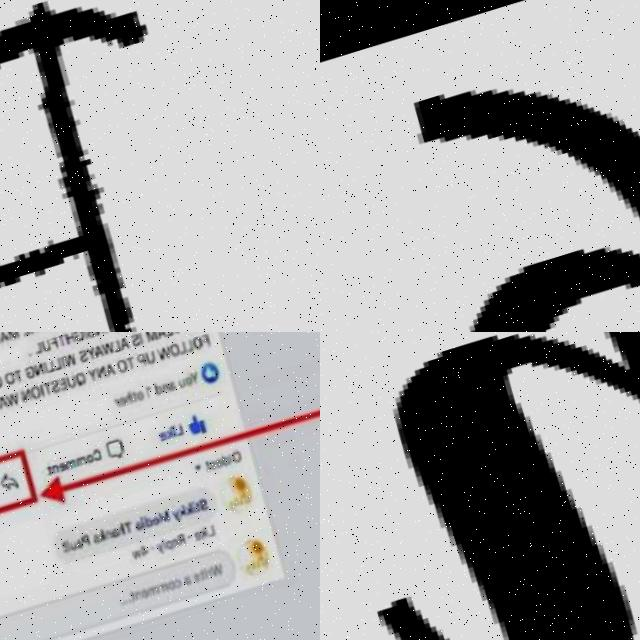1: (149, 384, 158, 396)
4: (145, 544, 155, 556)
6: (358, 3, 640, 332)
N: (320, 332, 640, 640)
P: (0, 2, 144, 332)
